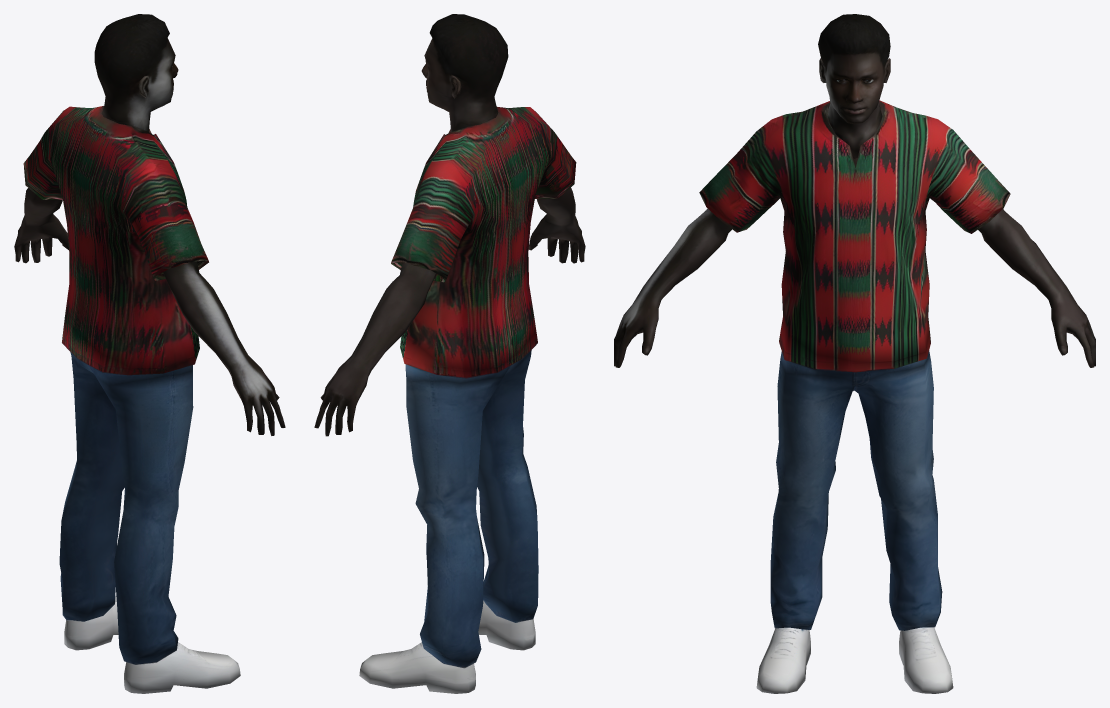
Rendered from jeune_homme.glb.
3 renders of one model, left to right at view 1: azimuth 30°, elevation 25°; view 2: azimuth 150°, elevation 25°; view 3: azimuth 270°, elevation 25°, orthographic.
Visible parts, largest first — view 1: tripo_node_a86138cc-5bf5-46f7-a63e-4861808f2cc4; view 2: tripo_node_a86138cc-5bf5-46f7-a63e-4861808f2cc4; view 3: tripo_node_a86138cc-5bf5-46f7-a63e-4861808f2cc4.
Part boxes in pixels (x1=…): tripo_node_a86138cc-5bf5-46f7-a63e-4861808f2cc4: x1=14, y1=14, x2=285, y2=693; tripo_node_a86138cc-5bf5-46f7-a63e-4861808f2cc4: x1=314, y1=14, x2=585, y2=693; tripo_node_a86138cc-5bf5-46f7-a63e-4861808f2cc4: x1=614, y1=14, x2=1095, y2=693.
Size of the model in its own units: 0.1973 by 0.998 by 0.6738.
1 material, 1 textured.
